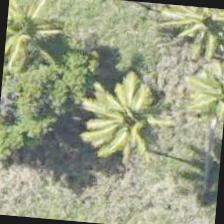Kelapa_Sawit: (78, 71, 176, 168), (165, 45, 223, 141), (3, 0, 70, 82), (167, 5, 223, 74)
